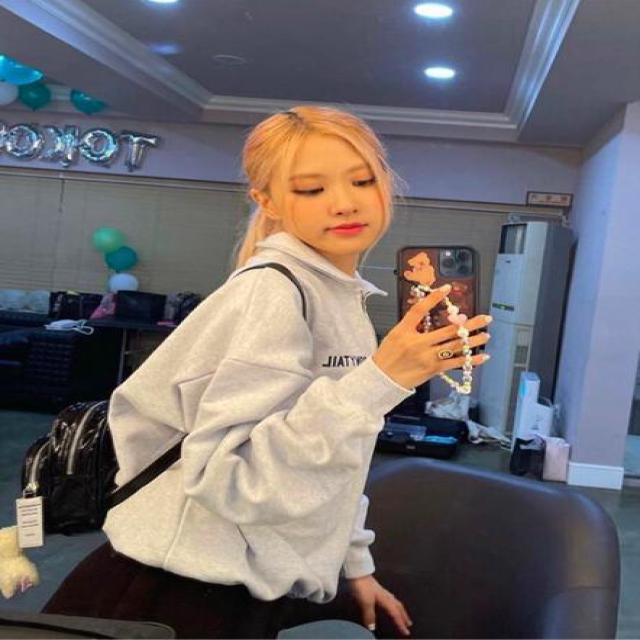sweater: (40, 232, 478, 618)
